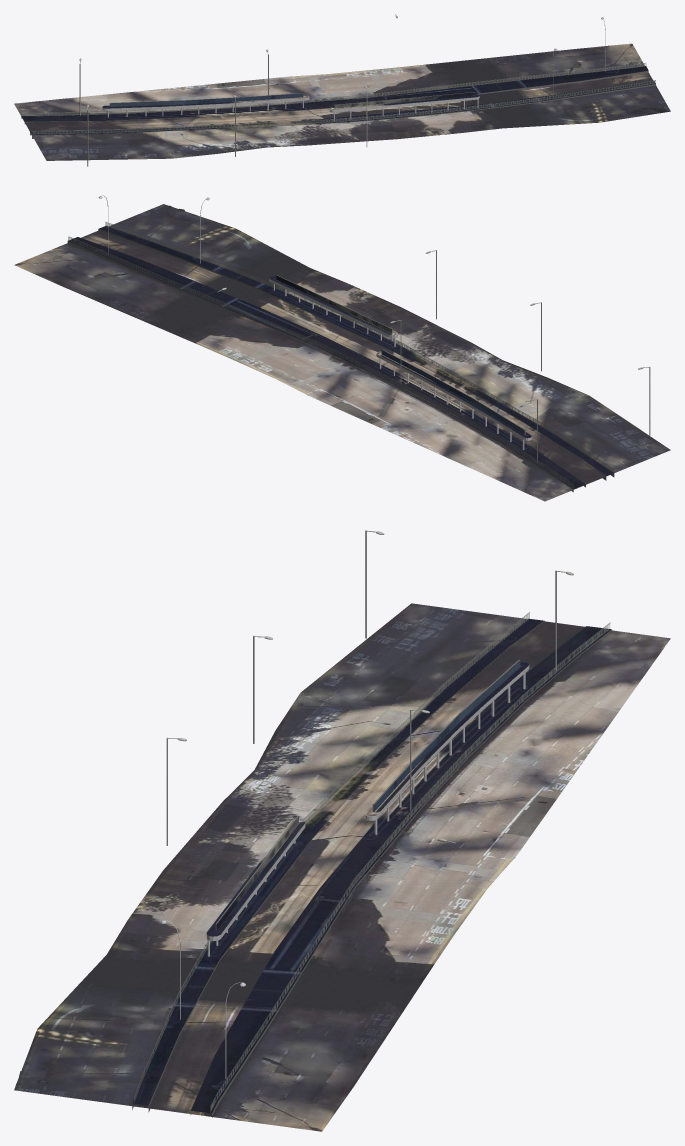
File: admiralty.glb
The picture shows the model from 3 angles, top to bottom: view 1: azimuth 30°, elevation 25°; view 2: azimuth 150°, elevation 25°; view 3: azimuth 270°, elevation 25°; orthographic projection. The views are drawn at different scales.
Parts seen in each view (by area): view 1: admiralty; view 2: admiralty; view 3: admiralty.
Part boxes in pixels (<box>): admiralty: <box>14,14,670,166</box>; admiralty: <box>14,195,670,501</box>; admiralty: <box>14,530,670,1131</box>.
Size of the model in its own units: 133 by 13.61 by 70.42.
Materials: 7 (7 with a texture image).
